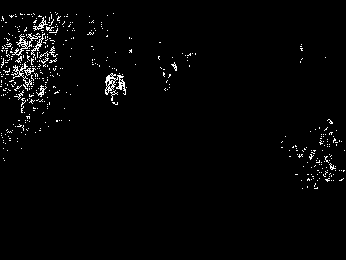person: (105, 69, 127, 110)
